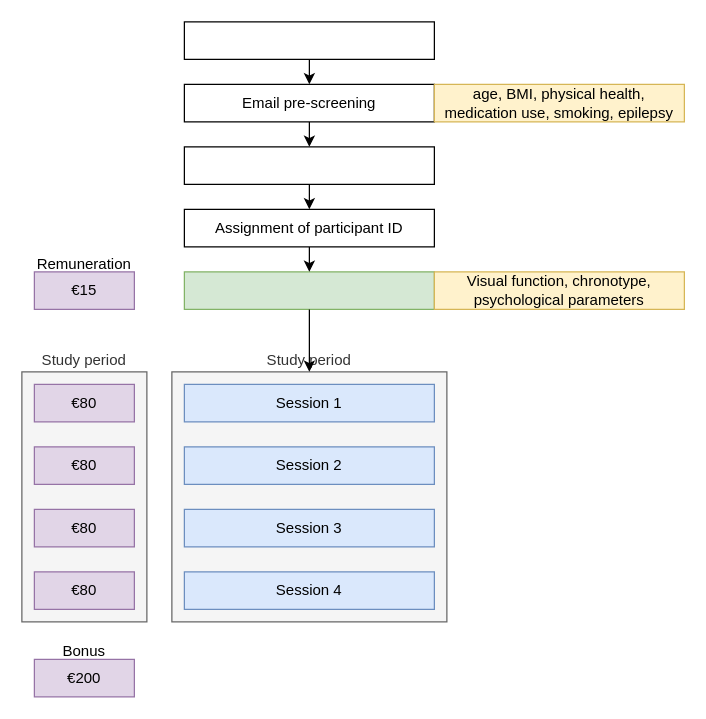
Image size: 706x719. Some labels were removed from this diagram. The shapes that lost their labels are listed below. From the top down, each one's centre as x and y in pixels, then its label:
At pixel 308 40: "Participant contacts study team".
At pixel 308 165: "Completion of informed consent".
At pixel 308 290: "In-person screening (1h)".
